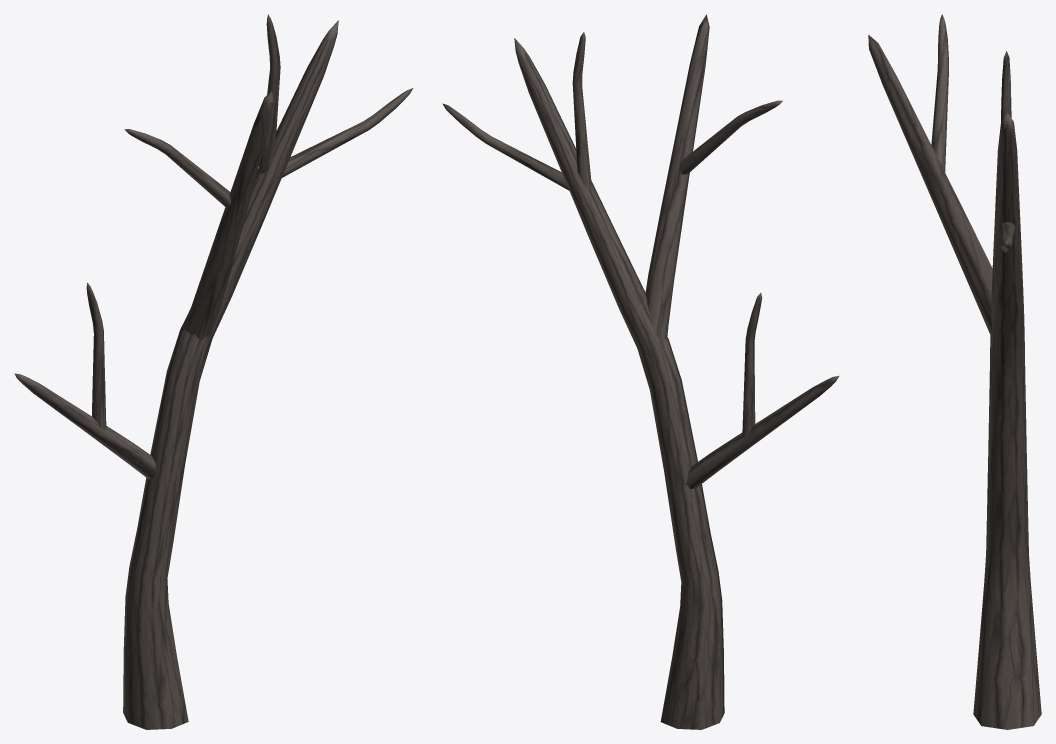
File: dead_tree_9.gltf
The picture shows the model from 3 angles, left to right: view 1: azimuth 30°, elevation 25°; view 2: azimuth 150°, elevation 25°; view 3: azimuth 270°, elevation 25°; orthographic projection. The views are drawn at different scales.
Visible parts, largest first — view 1: DeadTree_9; view 2: DeadTree_9; view 3: DeadTree_9.
Part boxes in pixels (x1,y1,x2,y2): DeadTree_9: (14, 14, 413, 729); DeadTree_9: (442, 14, 839, 729); DeadTree_9: (868, 14, 1041, 729).
Bounding box in the file's own units: 2.06 × 3.3 × 0.7175.
Materials: 1 (1 with a texture image).
